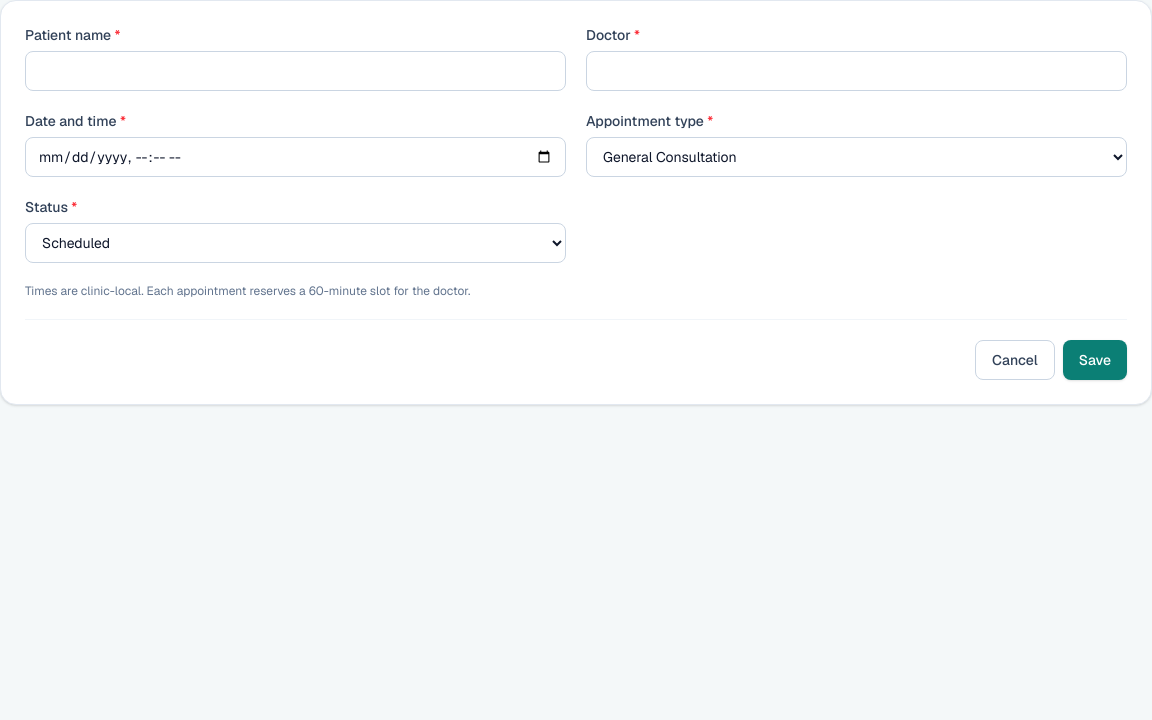
AppointmentForm › maps backend field errors next to the right field
The width and height of the screenshot is (1152, 720).
Type "Alex Morgan" into the field labelled "Patient name *".
click(296, 71); type("Alex Morgan")  # box 25,51 -> 566,91
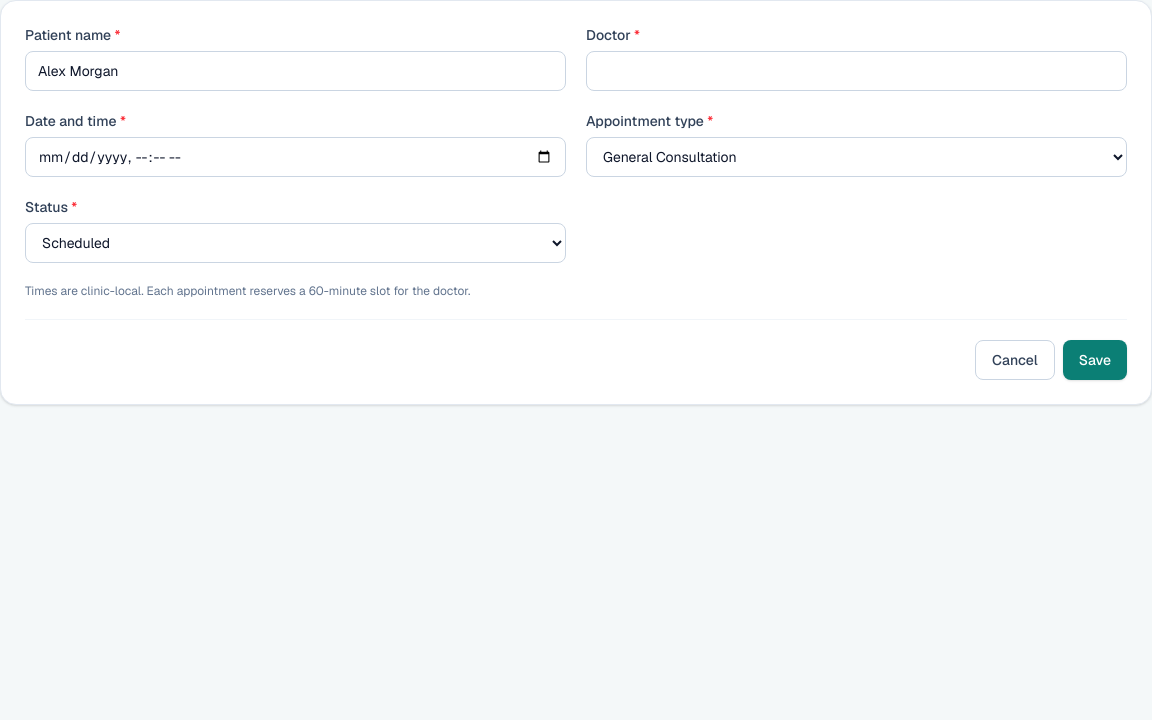
Type "Dr. Emily Carter" into the field labelled "Doctor *".
click(856, 71); type("Dr. Emily Carter")  # box 586,51 -> 1127,91
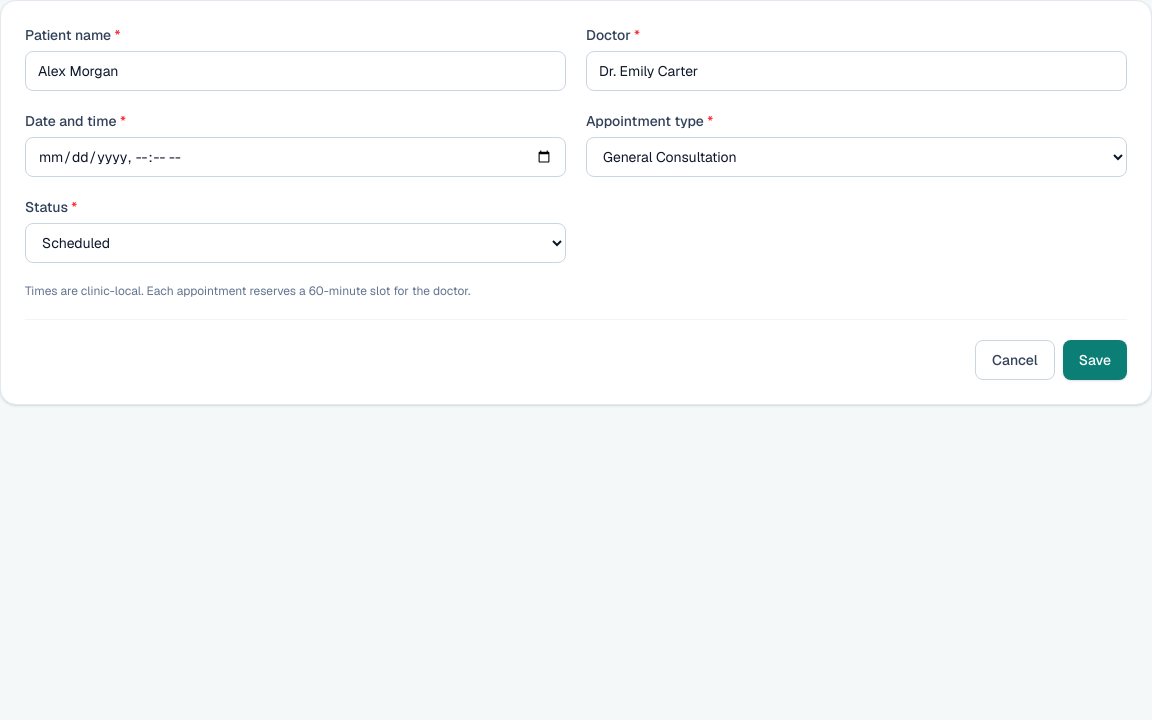
Type "2099-06-01T10:00" into the field labelled "Date and time *".
click(296, 157); type("2099-06-01T10:00")  # box 25,137 -> 566,177
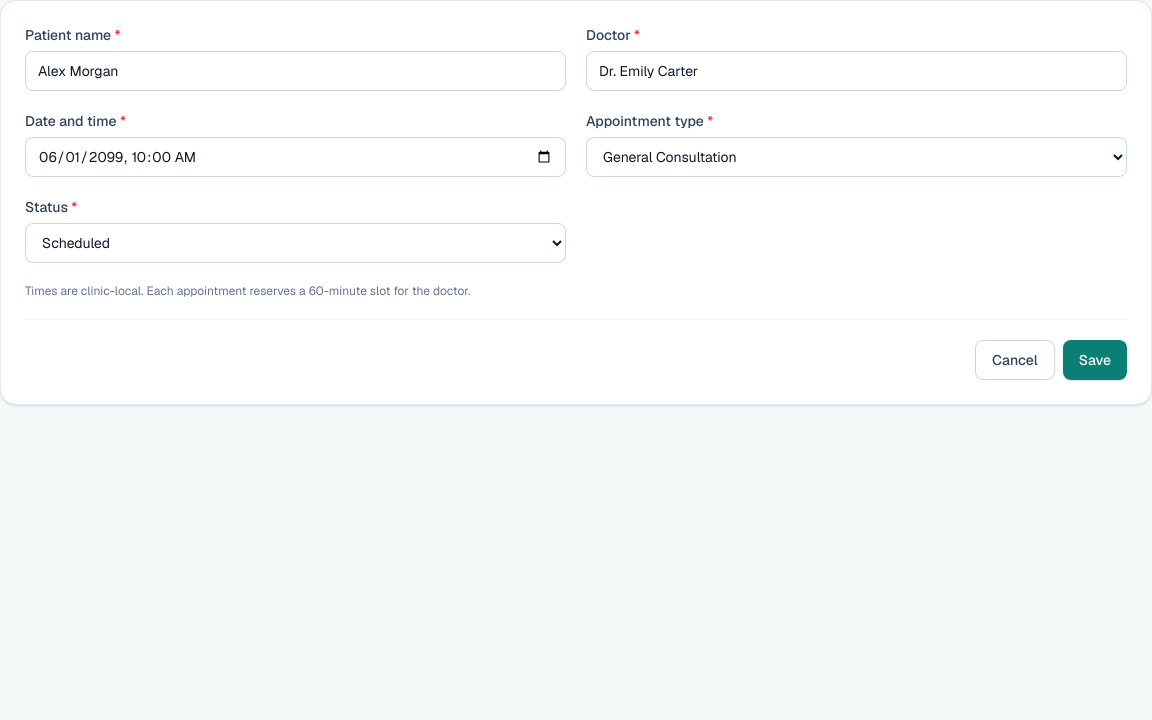
Click the button "Save".
click(1095, 360)  # box 1063,340 -> 1127,380
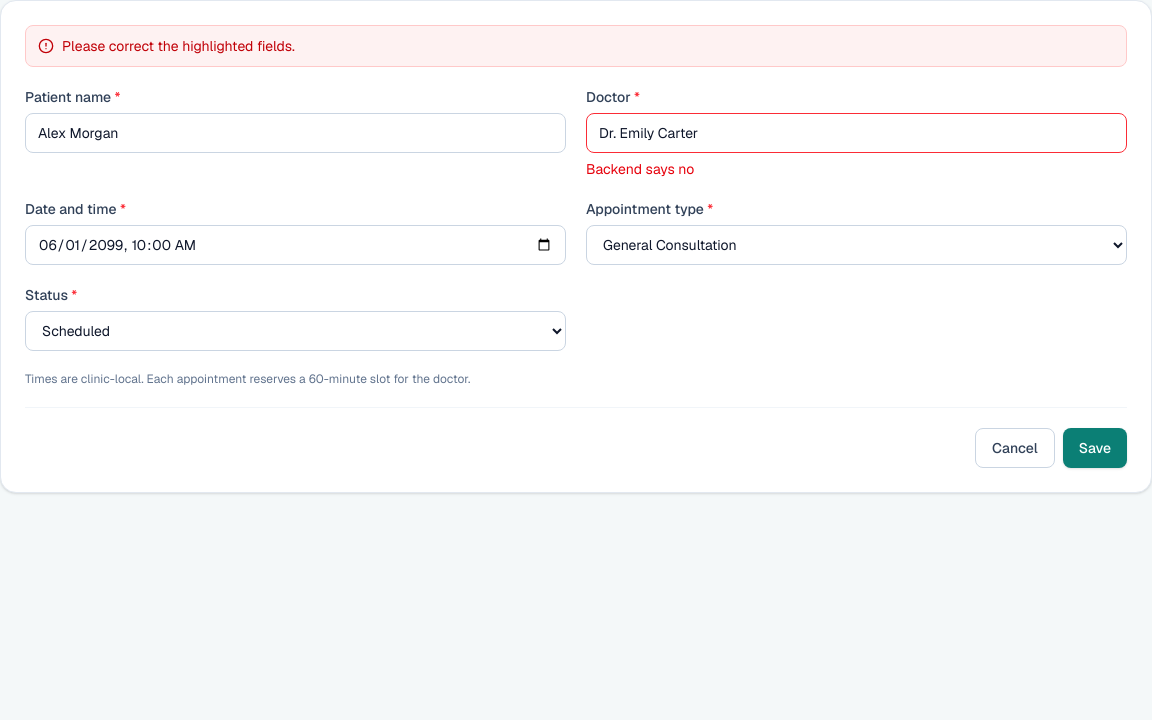
Expected: the text "Backend says no" is shown, 586,160 -> 694,178
